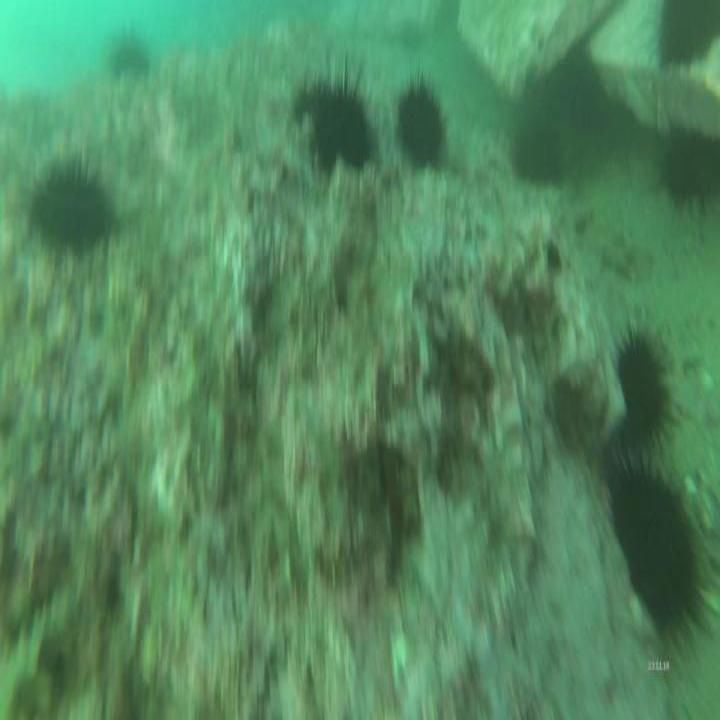echinus: (604, 444, 715, 660), (606, 311, 684, 464), (22, 149, 115, 256), (308, 46, 378, 174), (386, 62, 451, 174), (653, 116, 720, 224), (652, 2, 720, 78), (105, 21, 154, 89)
